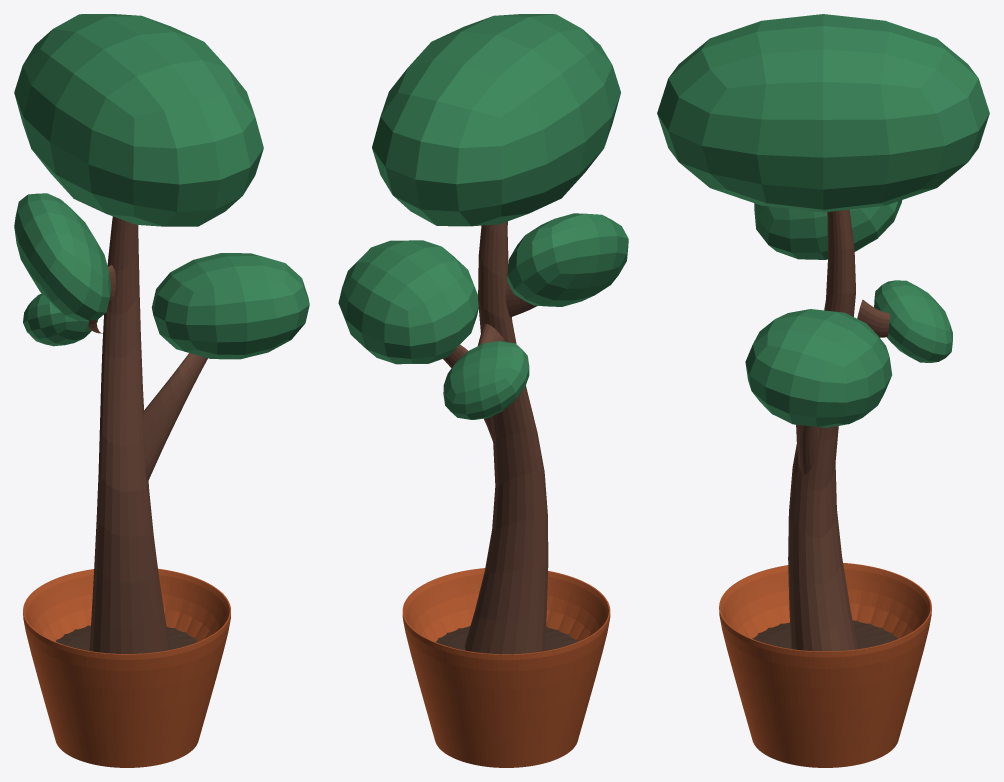
The model's file is plant.glb.
3 renders of one model, left to right at view 1: azimuth 30°, elevation 25°; view 2: azimuth 150°, elevation 25°; view 3: azimuth 270°, elevation 25°, orthographic. The views are drawn at different scales.
Parts seen in each view (by area): view 1: Cube; view 2: Cube; view 3: Cube.
Boxes of the visible parts, x1,y1,x2,y2 form: Cube: (14,14,309,767); Cube: (338,14,628,767); Cube: (657,14,989,767).
Bounding box in the file's own units: 0.0236 × 0.0587 × 0.0247.
